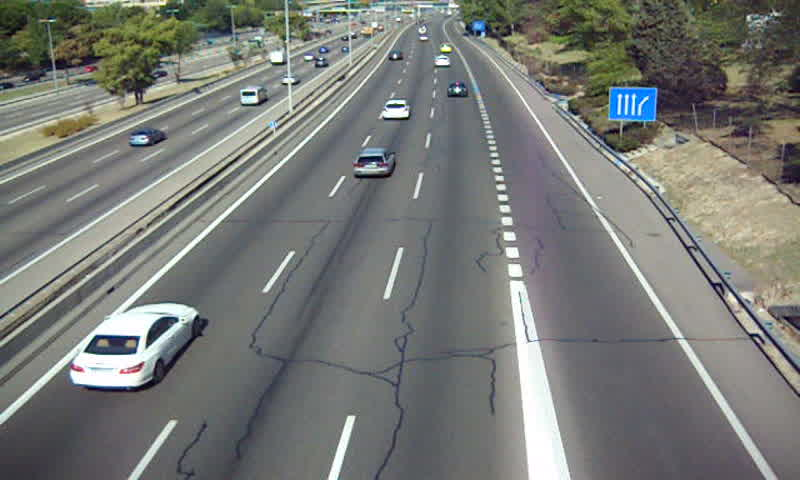car: (70, 304, 202, 389), (354, 148, 396, 177), (380, 100, 411, 120), (446, 82, 466, 98)
